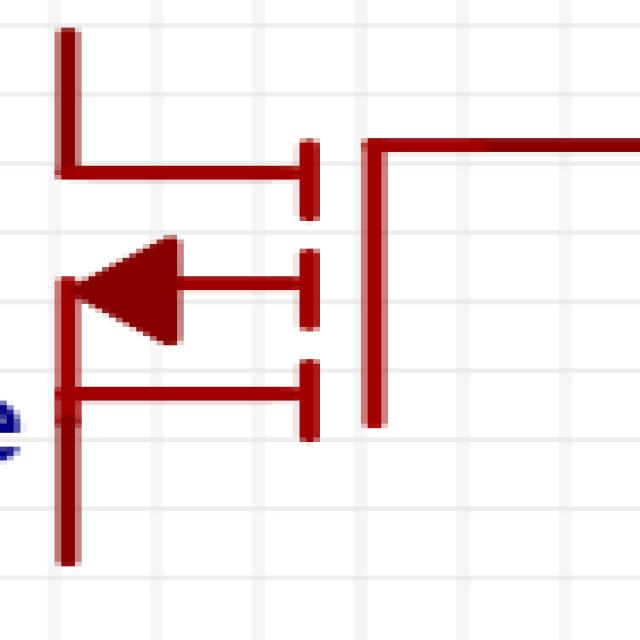pmos: (0, 66, 640, 640)
